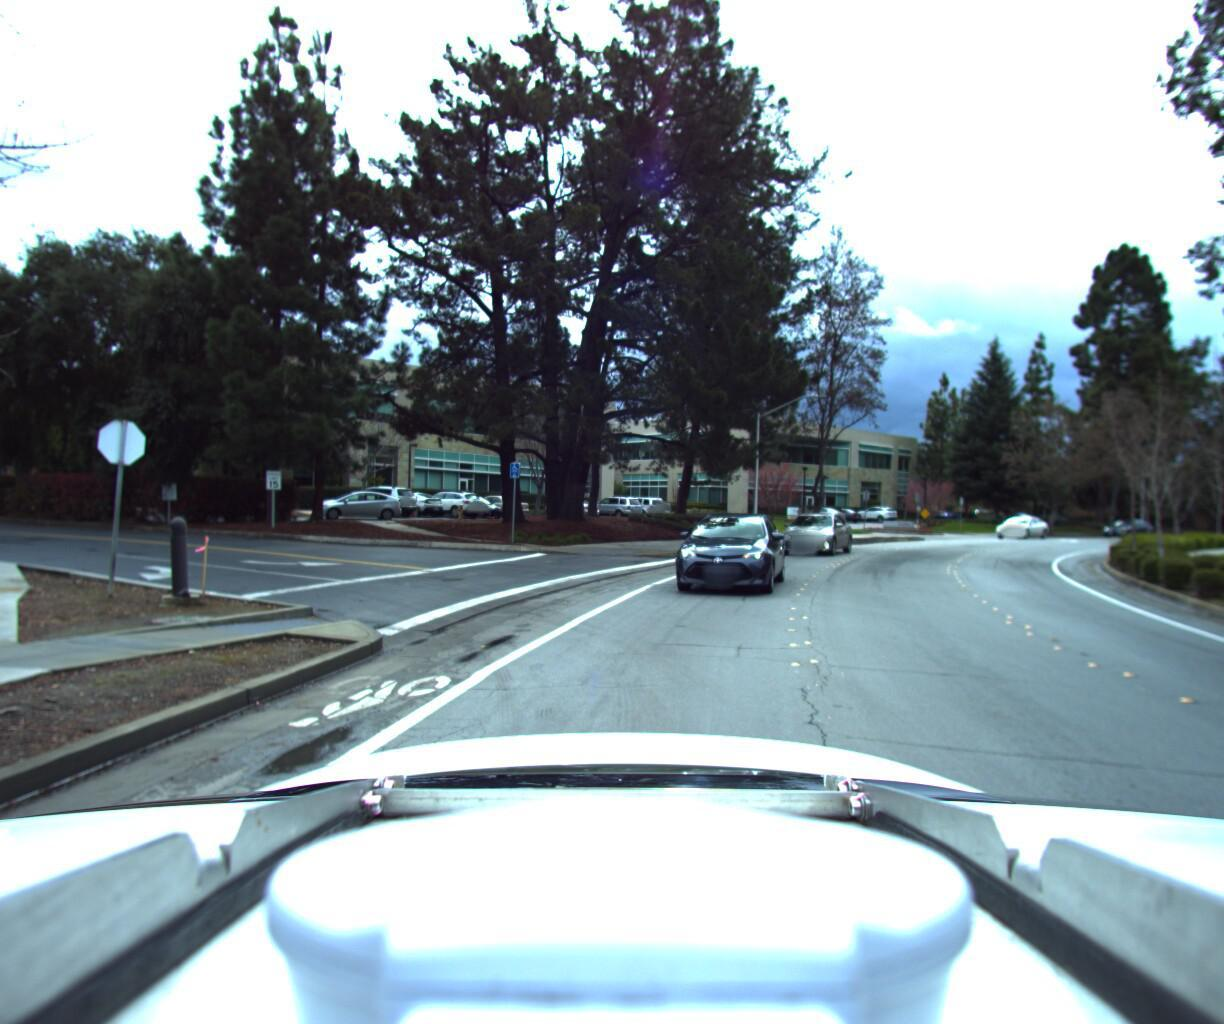car: (655, 504, 785, 597), (766, 502, 846, 550), (985, 507, 1044, 537), (1090, 520, 1147, 545)
